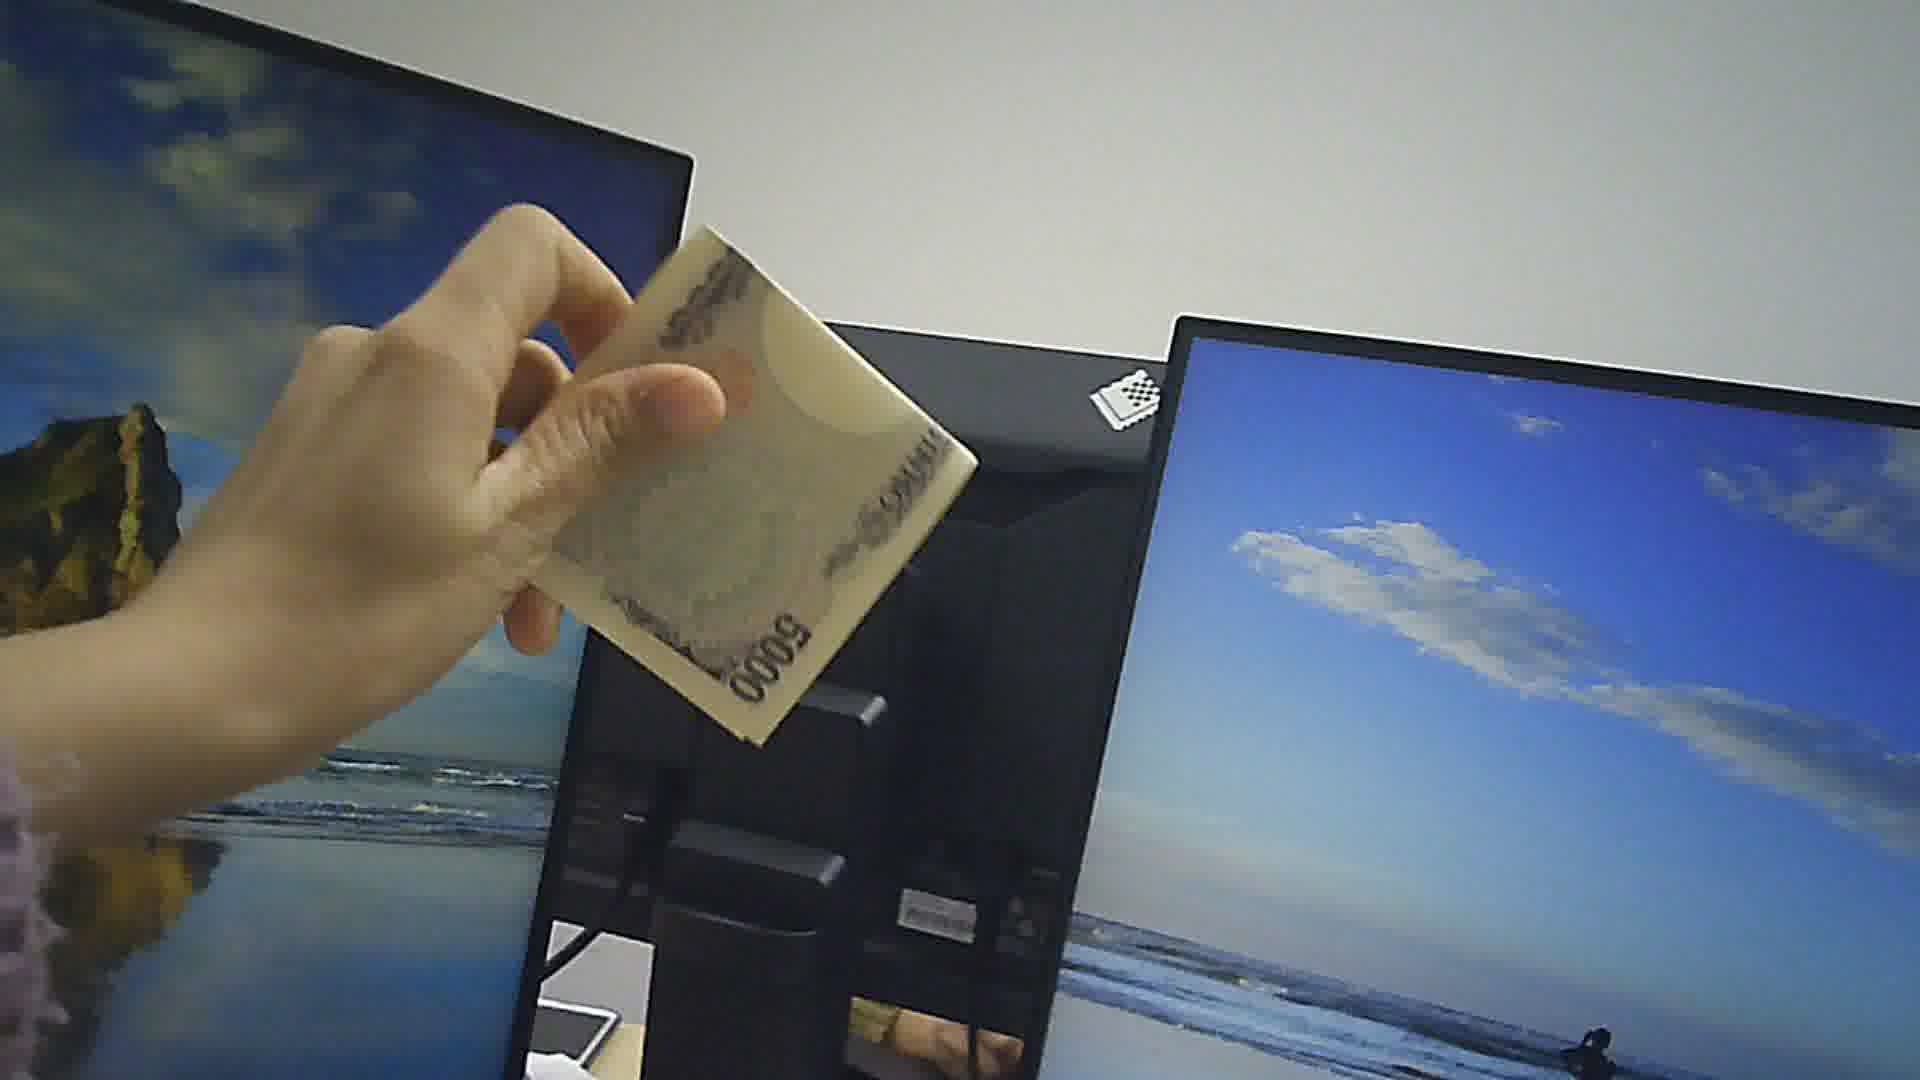5,000 Yen: (489, 204, 1007, 782)
